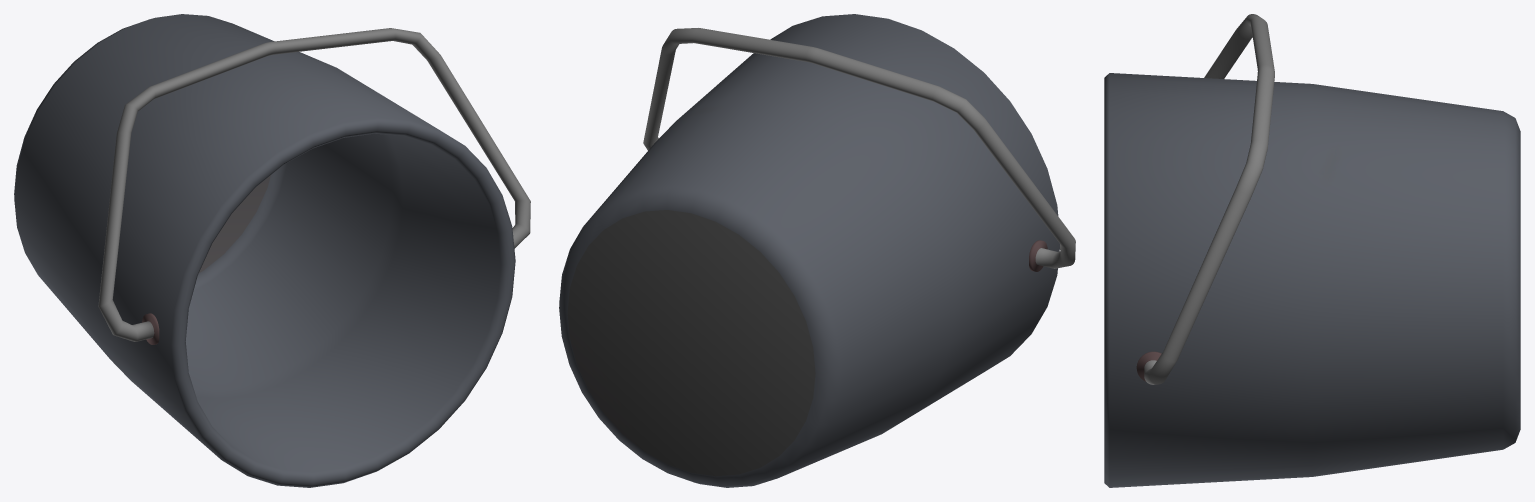
The model's file is Bucket1.fbx.
The picture shows the model from 3 angles, left to right: view 1: azimuth 30°, elevation 25°; view 2: azimuth 150°, elevation 25°; view 3: azimuth 270°, elevation 25°; orthographic projection. The views are drawn at different scales.
Visible parts, largest first — view 1: Bucket; view 2: Bucket; view 3: Bucket.
Boxes of the visible parts, x1,y1,x2,y2 form: Bucket: (14, 14, 530, 487); Bucket: (559, 14, 1075, 487); Bucket: (1104, 14, 1520, 487).
Bounding box in the file's own units: 200 × 250 × 214.
